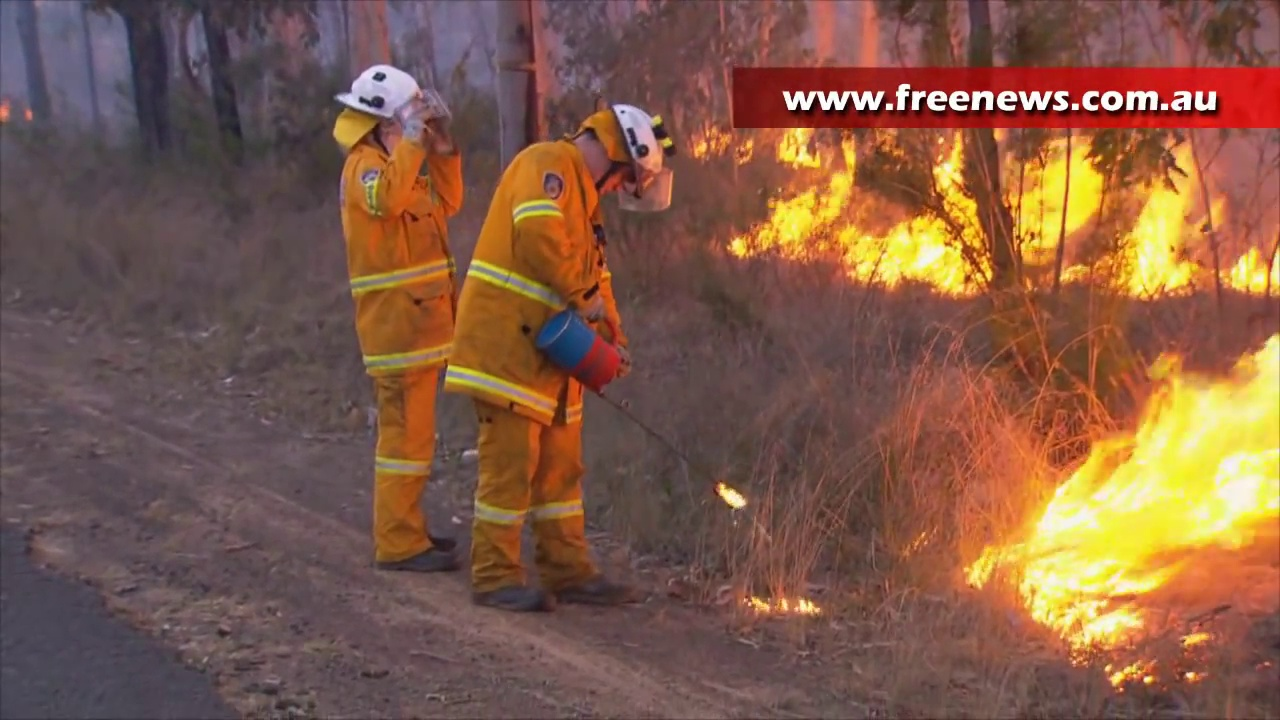fire: (995, 334, 1280, 655), (728, 126, 987, 290), (1130, 131, 1205, 297), (1015, 133, 1102, 273), (1228, 242, 1280, 296)
